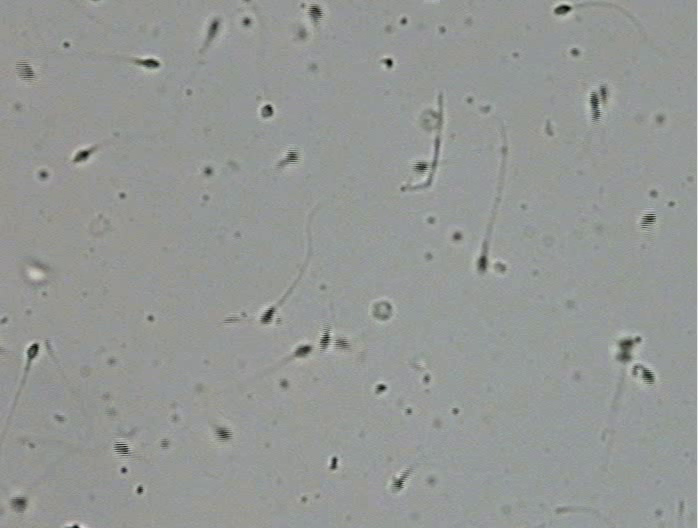Impurity: (372, 300, 393, 321)
S: (616, 338, 633, 363), (15, 61, 35, 81), (589, 90, 601, 123), (306, 3, 323, 23), (215, 426, 233, 442), (10, 497, 28, 513), (319, 330, 331, 353), (113, 441, 130, 457), (640, 212, 656, 229), (260, 307, 275, 325), (641, 367, 655, 386), (333, 338, 351, 351), (26, 343, 40, 359), (295, 344, 312, 357), (391, 477, 405, 492), (477, 253, 488, 272), (285, 148, 298, 164), (73, 149, 89, 162), (412, 161, 428, 174), (208, 19, 218, 39), (139, 59, 160, 68), (554, 4, 571, 15), (599, 85, 609, 103), (261, 105, 274, 117)
